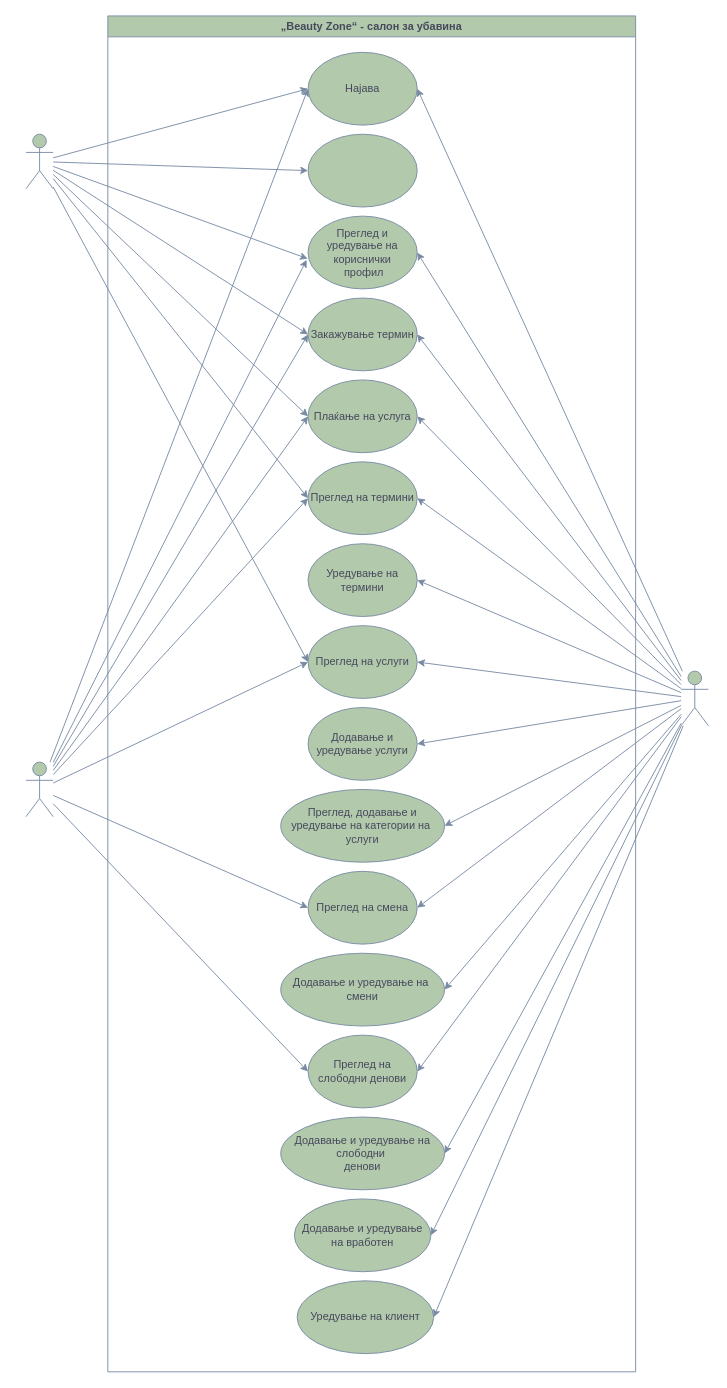
The diagram is 727 pixels wide and 1388 high, and some of its shapes have lost their labels. Each missing label, with the centre of its shape:
Админ: the point at 694,698
Вработен: the point at 39,789
Клиент: the point at 39,161
Регистрација: the point at 362,170
